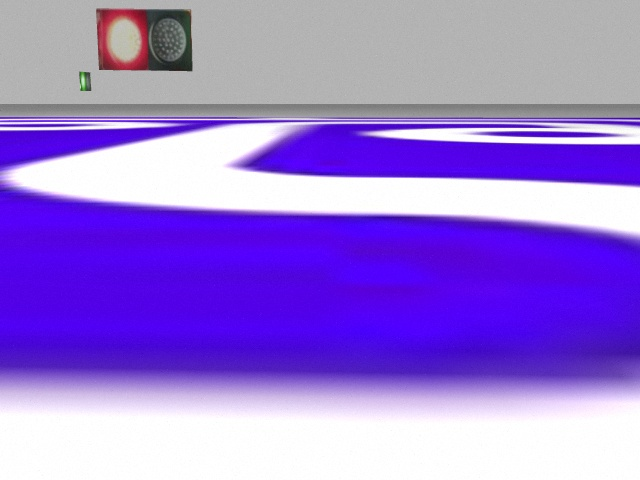red: (98, 7, 149, 71)
